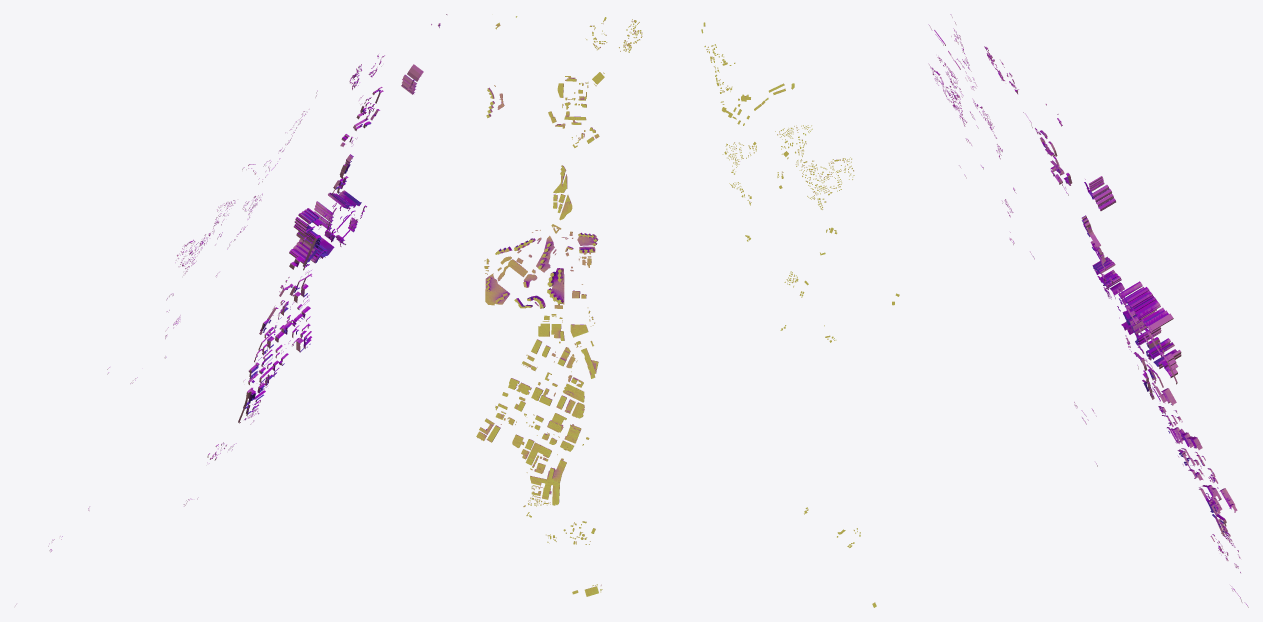
3 views of the same model, side by side, from view 1: azimuth 30°, elevation 25°; view 2: azimuth 150°, elevation 25°; view 3: azimuth 270°, elevation 25° (orthographic). The views are drawn at different scales.
Visible parts, largest first — view 1: geometry_0; view 2: geometry_0; view 3: geometry_0.
Boxes of the visible parts, x1,y1,x2,y2 form: geometry_0: (15, 14, 447, 605); geometry_0: (476, 16, 899, 607); geometry_0: (928, 14, 1248, 607).
Bounding box in the file's own units: 3802 × 4420 × 2168.
